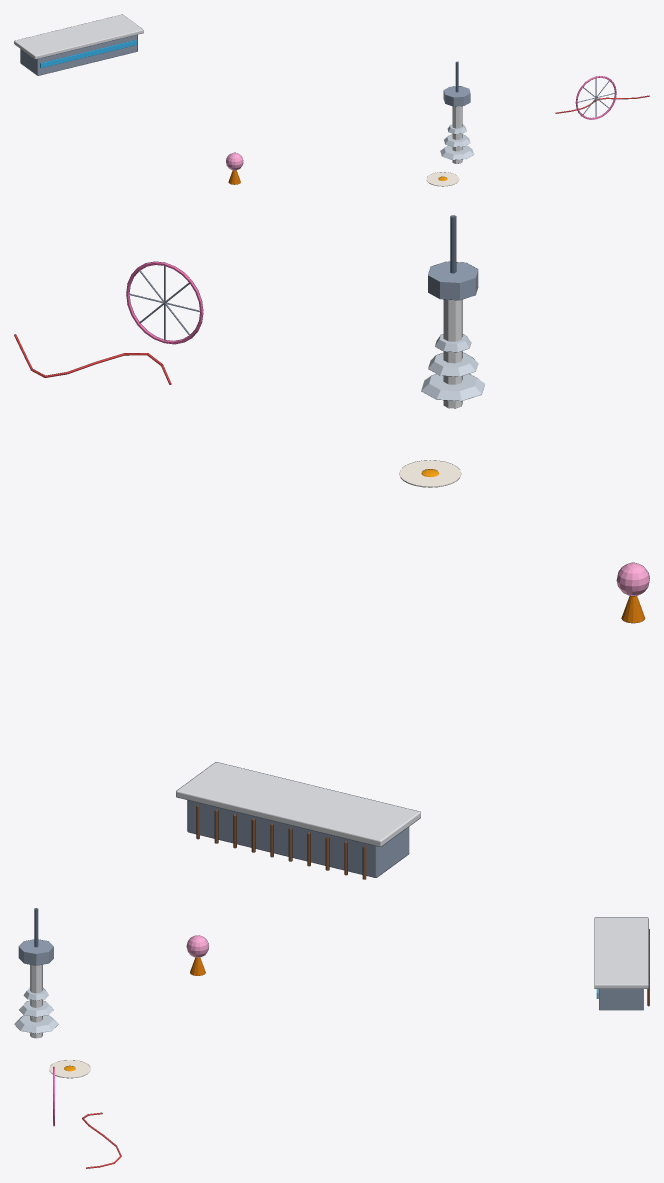
Rendered from daegu.glb.
The picture shows the model from 3 angles, top to bottom: view 1: azimuth 30°, elevation 25°; view 2: azimuth 150°, elevation 25°; view 3: azimuth 270°, elevation 25°; orthographic projection. The views are drawn at different scales.
Visible parts, largest first — view 1: daegu_landmarks; view 2: daegu_landmarks; view 3: daegu_landmarks.
Part boxes in pixels (x1=…): daegu_landmarks: x1=14, y1=14, x2=649, y2=186; daegu_landmarks: x1=14, y1=215, x2=649, y2=879; daegu_landmarks: x1=14, y1=908, x2=649, y2=1168.
Size of the model in its own units: 381 by 112 by 398.
